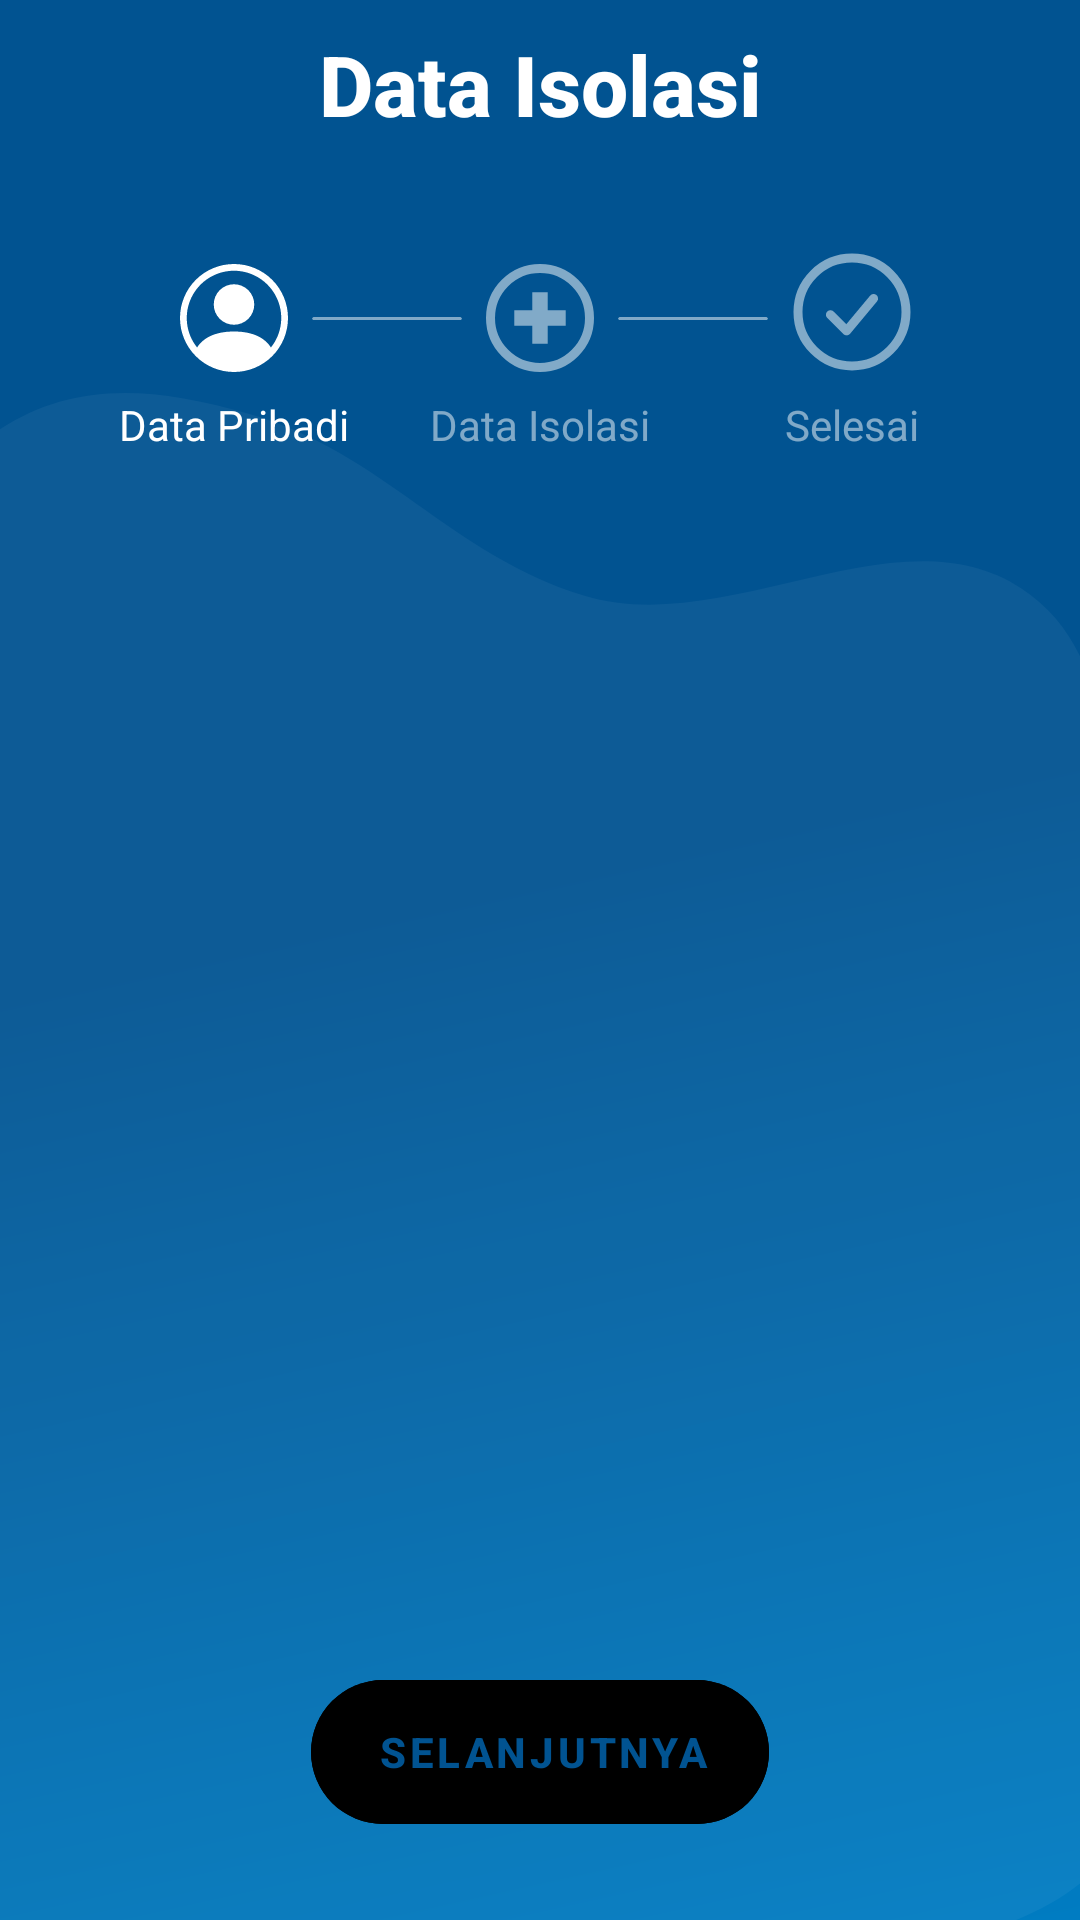

Screen size 1080px×1920px. Icon name, then its center in pixels as [x,y]:
check: [852,312]
medical: [540,318]
person: [234,318]
